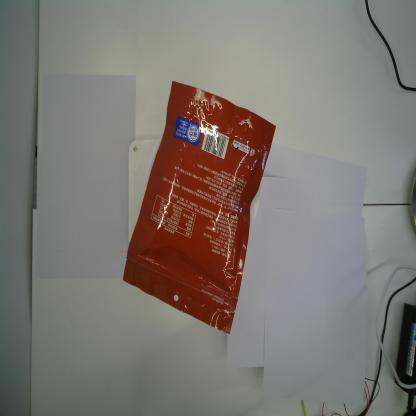Dried Food: (122, 81, 278, 336)
